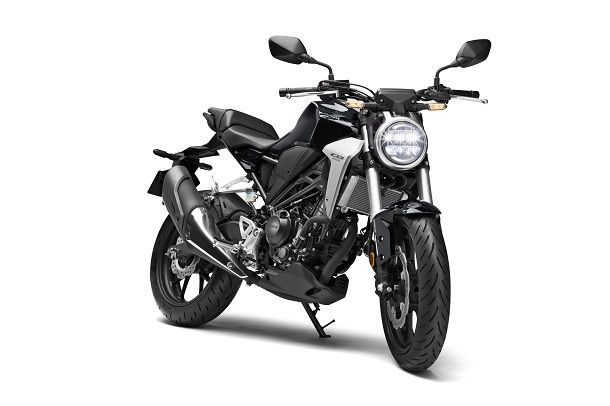motorcycle: (147, 63, 485, 375)
